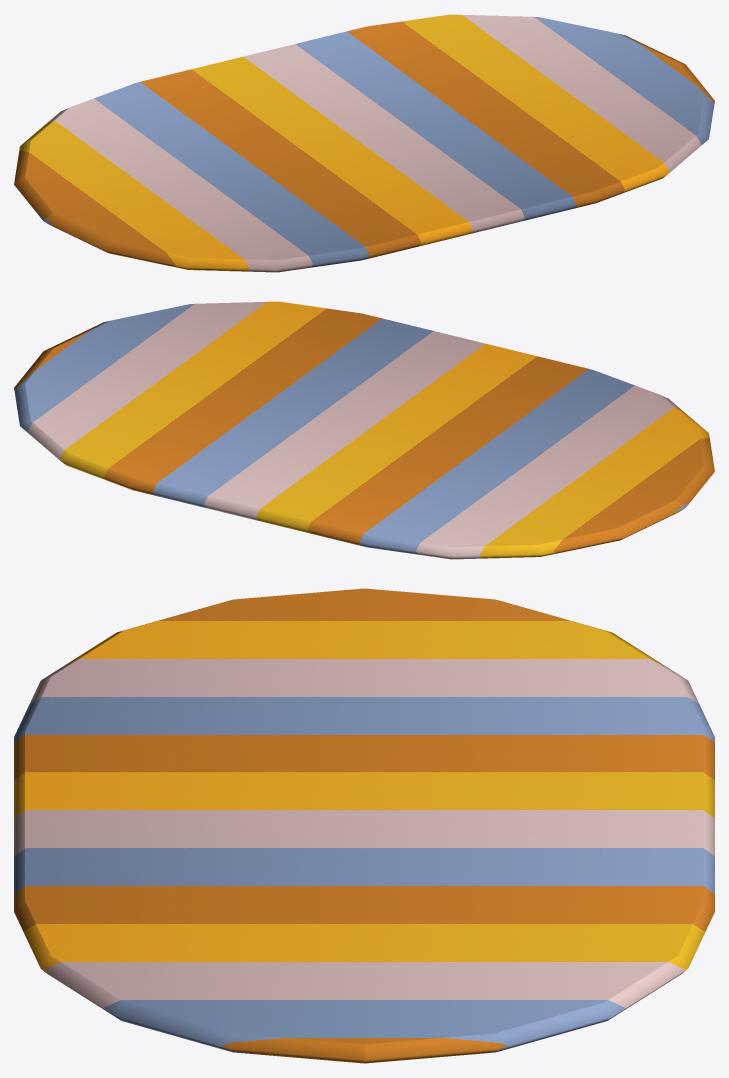
File: placemat.fbx
3 views of the same model, one above another, from view 1: azimuth 30°, elevation 25°; view 2: azimuth 150°, elevation 25°; view 3: azimuth 270°, elevation 25° (orthographic). The views are drawn at different scales.
Parts seen in each view (by area): view 1: placemat; view 2: placemat; view 3: placemat.
Part boxes in pixels (left/top/right/bottom): placemat: left=14, top=14, right=714, bottom=272; placemat: left=14, top=301, right=714, bottom=559; placemat: left=14, top=588, right=714, bottom=1063.
Bounding box in the file's own units: 1.54 × 0.0248 × 0.9691.
